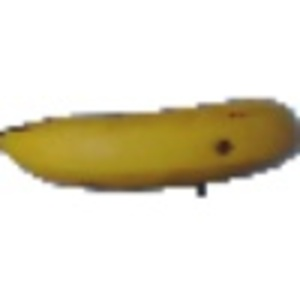banana: (2, 92, 297, 194)
